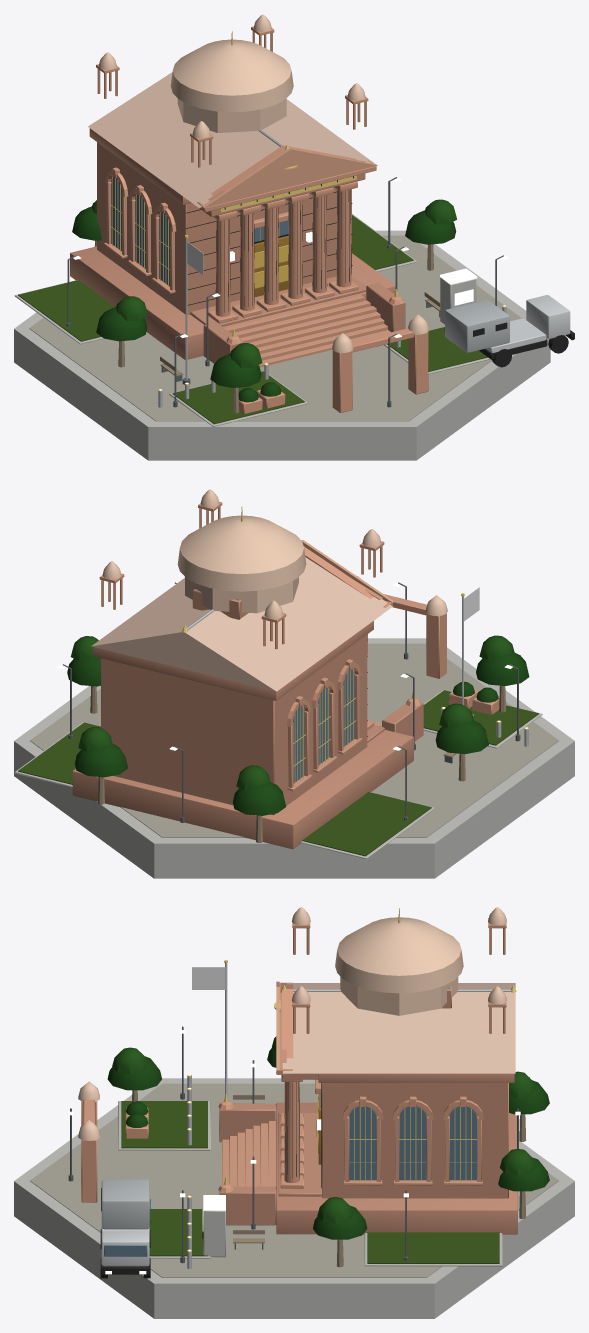
File: bank_india.glb
3 views of the same model, one above another, from view 1: azimuth 30°, elevation 25°; view 2: azimuth 150°, elevation 25°; view 3: azimuth 270°, elevation 25° (orthographic). The views are drawn at different scales.
Parts seen in each view (by area): view 1: stone, wall_concrete, plaster, pavers, turf, leaf, paint, dark, gold, glass, steel_dark, wood (+2 smaller); view 2: stone, plaster, wall_concrete, pavers, leaf, turf, glass, gold, steel_dark, wood, metal; view 3: stone, plaster, wall_concrete, pavers, turf, leaf, glass, paint, gold, metal, dark, wood (+3 smaller).
Boxes of the visible parts, bbox=[...] form: stone: bbox=[70, 26, 428, 413]; wall_concrete: bbox=[14, 214, 550, 460]; plaster: bbox=[88, 14, 428, 352]; pavers: bbox=[29, 235, 521, 421]; turf: bbox=[18, 215, 487, 424]; leaf: bbox=[72, 199, 456, 402]; paint: bbox=[444, 295, 570, 353]; dark: bbox=[186, 176, 574, 367]; gold: bbox=[110, 31, 506, 391]; glass: bbox=[111, 177, 288, 286]; steel_dark: bbox=[66, 177, 503, 407]; wood: bbox=[94, 240, 440, 413]; stone: bbox=[72, 501, 499, 849]; plaster: bbox=[91, 489, 447, 691]; wall_concrete: bbox=[14, 638, 574, 878]; pavers: bbox=[30, 643, 558, 837]; leaf: bbox=[67, 635, 529, 815]; turf: bbox=[18, 690, 538, 856]; glass: bbox=[195, 589, 354, 782]; gold: bbox=[182, 506, 528, 783]; steel_dark: bbox=[63, 582, 520, 822]; wood: bbox=[90, 685, 505, 842]; metal: bbox=[183, 596, 528, 746]; stone: bbox=[81, 918, 517, 1234]; plaster: bbox=[78, 907, 515, 1140]; wall_concrete: bbox=[14, 1078, 574, 1318]; pavers: bbox=[30, 1083, 558, 1277]; turf: bbox=[121, 1101, 499, 1263]; leaf: bbox=[107, 1036, 549, 1239]; glass: bbox=[104, 987, 476, 1256]; paint: bbox=[101, 1179, 150, 1266]; gold: bbox=[187, 908, 516, 1252]; metal: bbox=[187, 963, 511, 1268]; dark: bbox=[100, 1082, 321, 1278]; wood: bbox=[132, 1090, 526, 1267].
Bounding box in the file's own units: 21.3 × 14.9 × 24.6.
